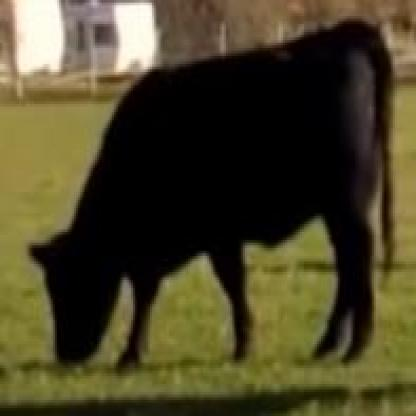cow: (44, 19, 384, 373)
